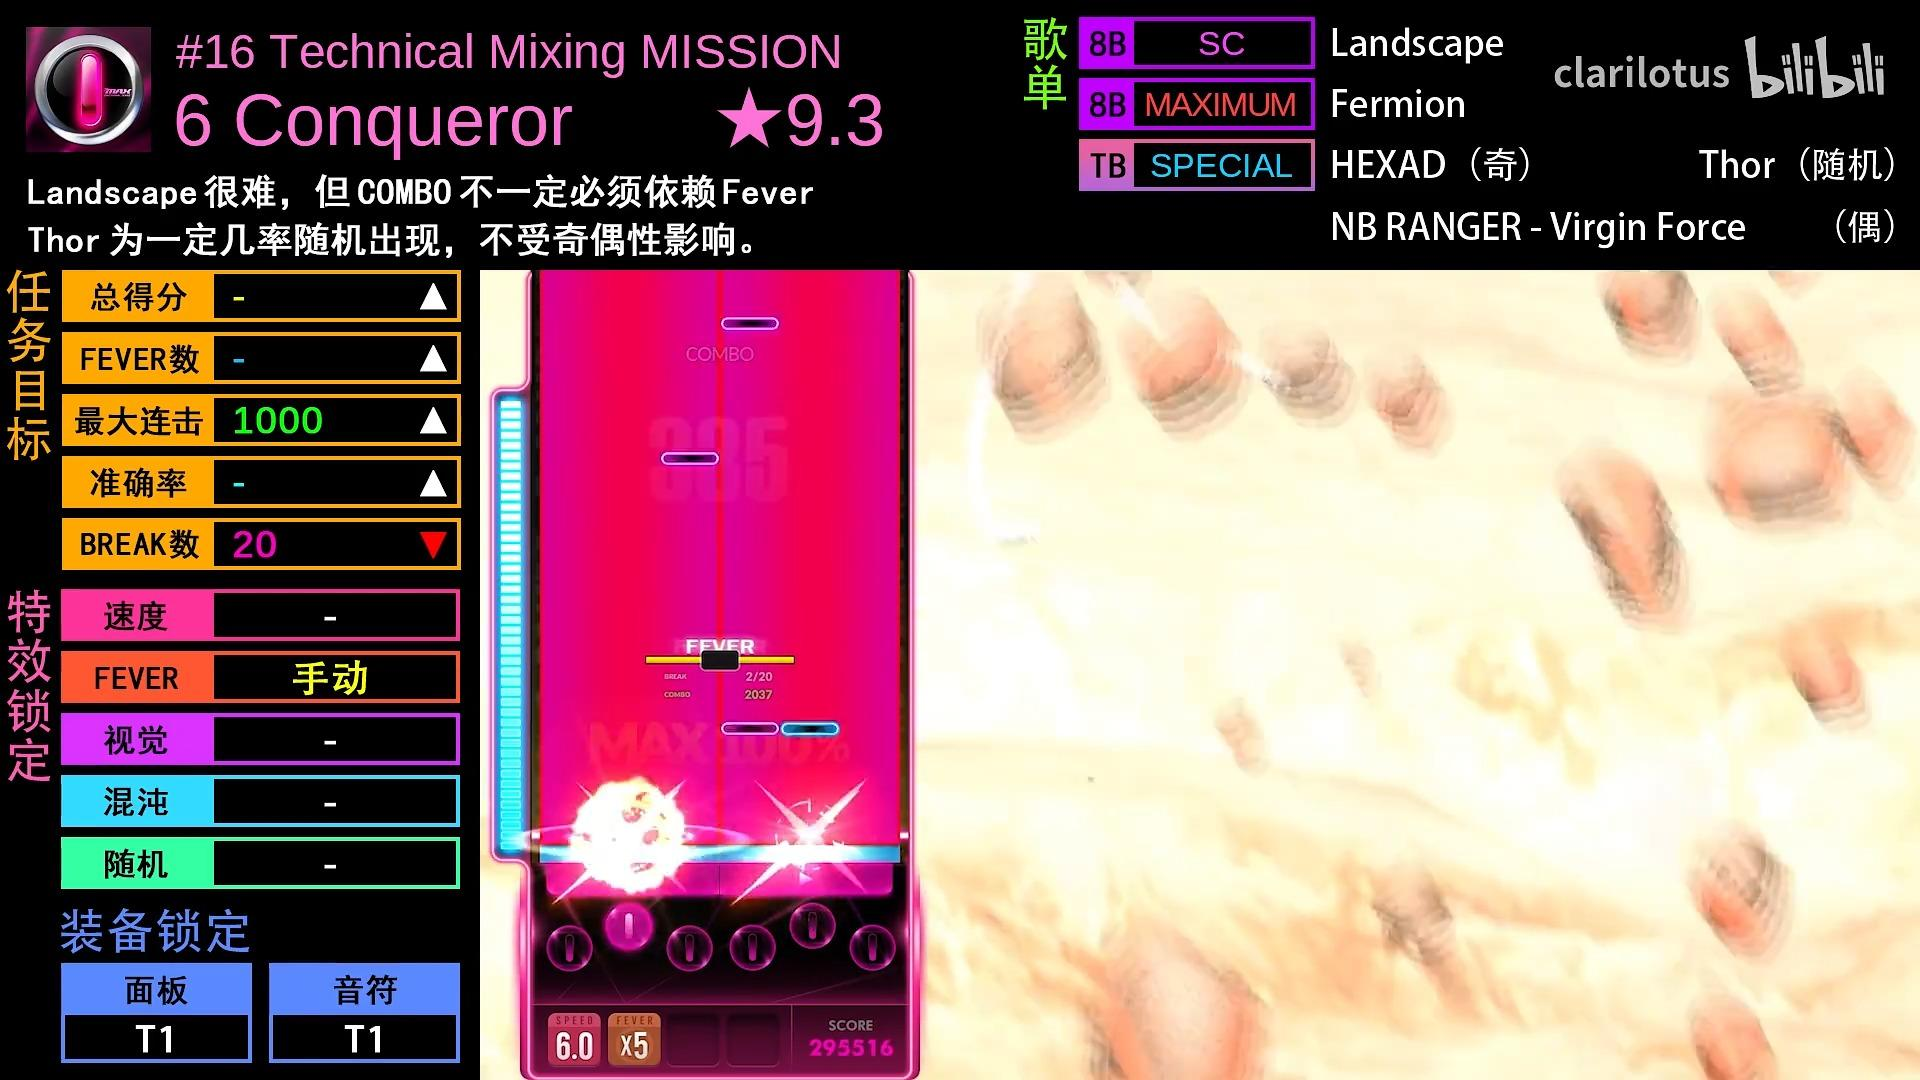note: (779, 718, 840, 738), (659, 450, 720, 466), (720, 315, 780, 331), (720, 721, 779, 737)
